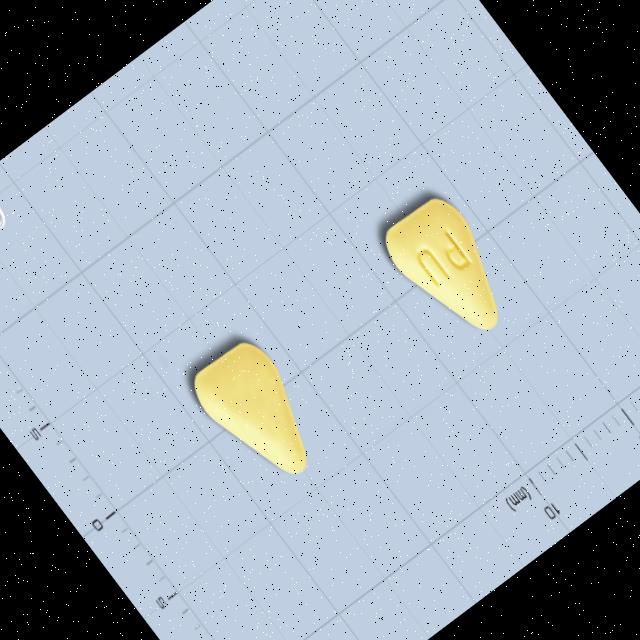Rheumakin Tab-20mg: (182, 332, 338, 498), (376, 190, 528, 354)
